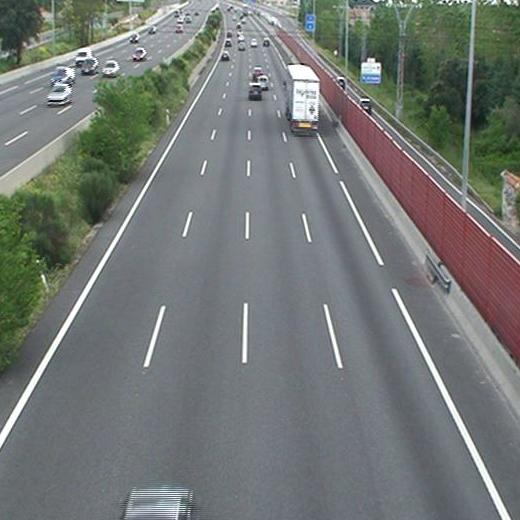car: (249, 85, 262, 97), (258, 76, 268, 86), (252, 68, 262, 77), (249, 39, 258, 48), (237, 42, 246, 50), (221, 51, 229, 59), (261, 38, 269, 45)
truck: (285, 65, 319, 132)
